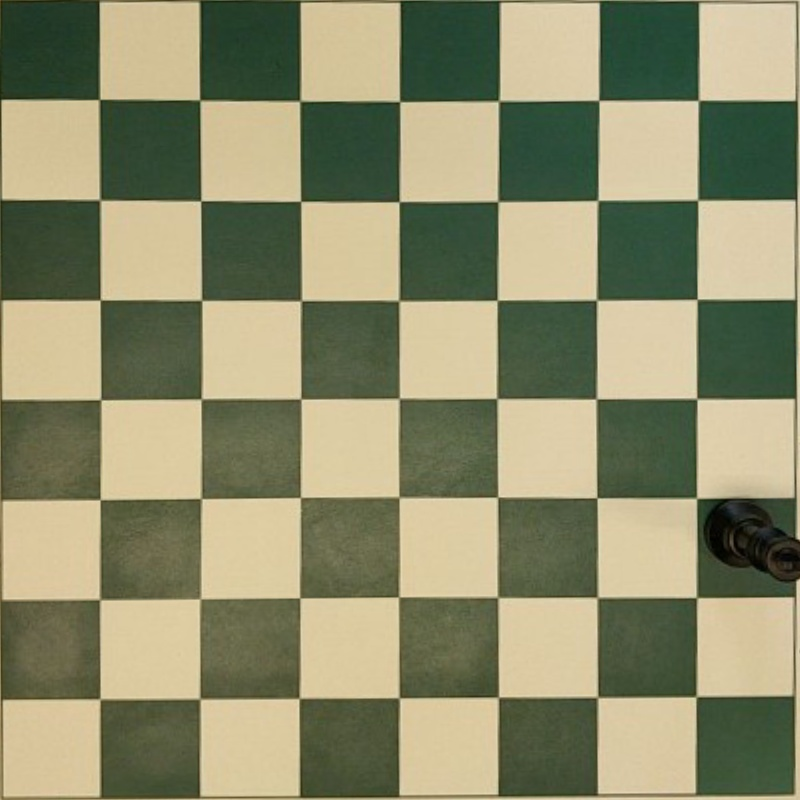black-king: (704, 500, 800, 582)
